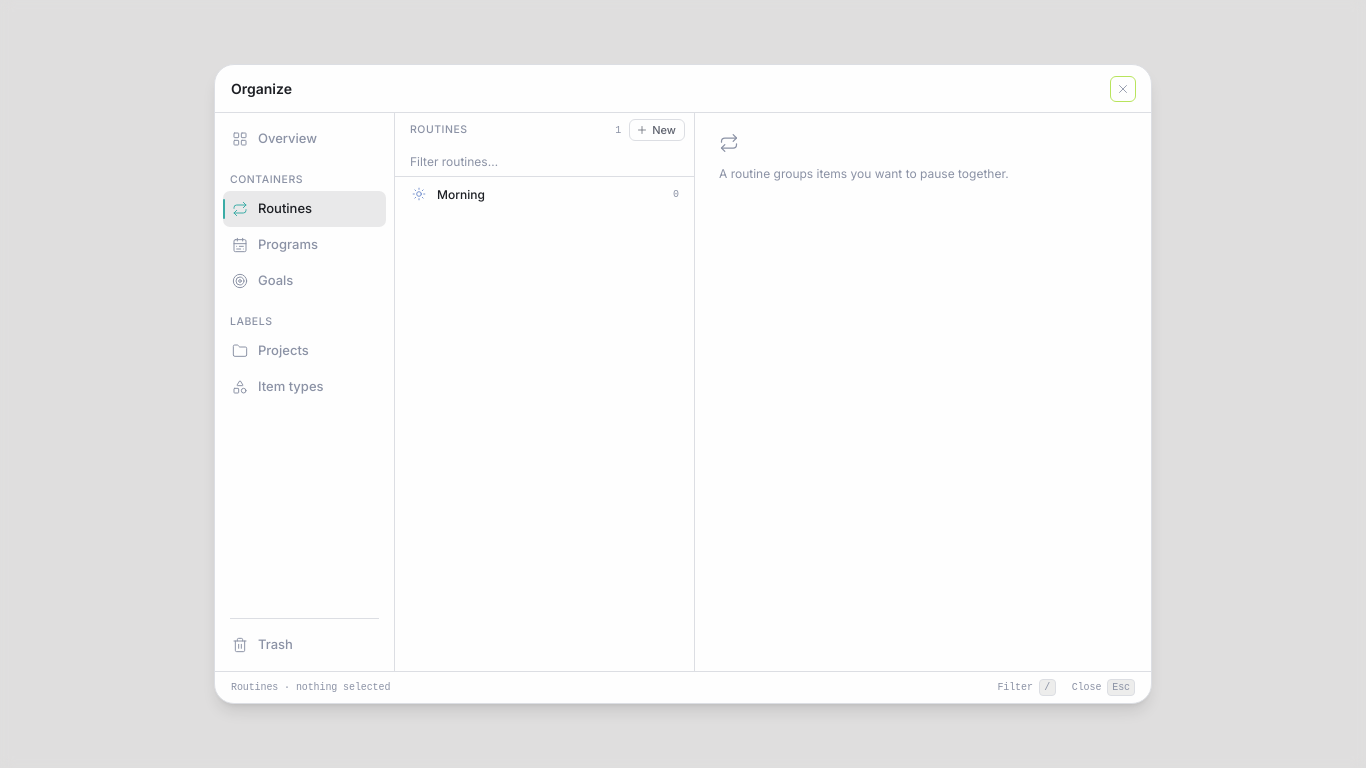
Scenario: the routines section › offers the resume date only while paused
The image size is (1366, 768).
Click the button with test id "routine-row".
click(461, 194)  # box [403, 177, 686, 211]
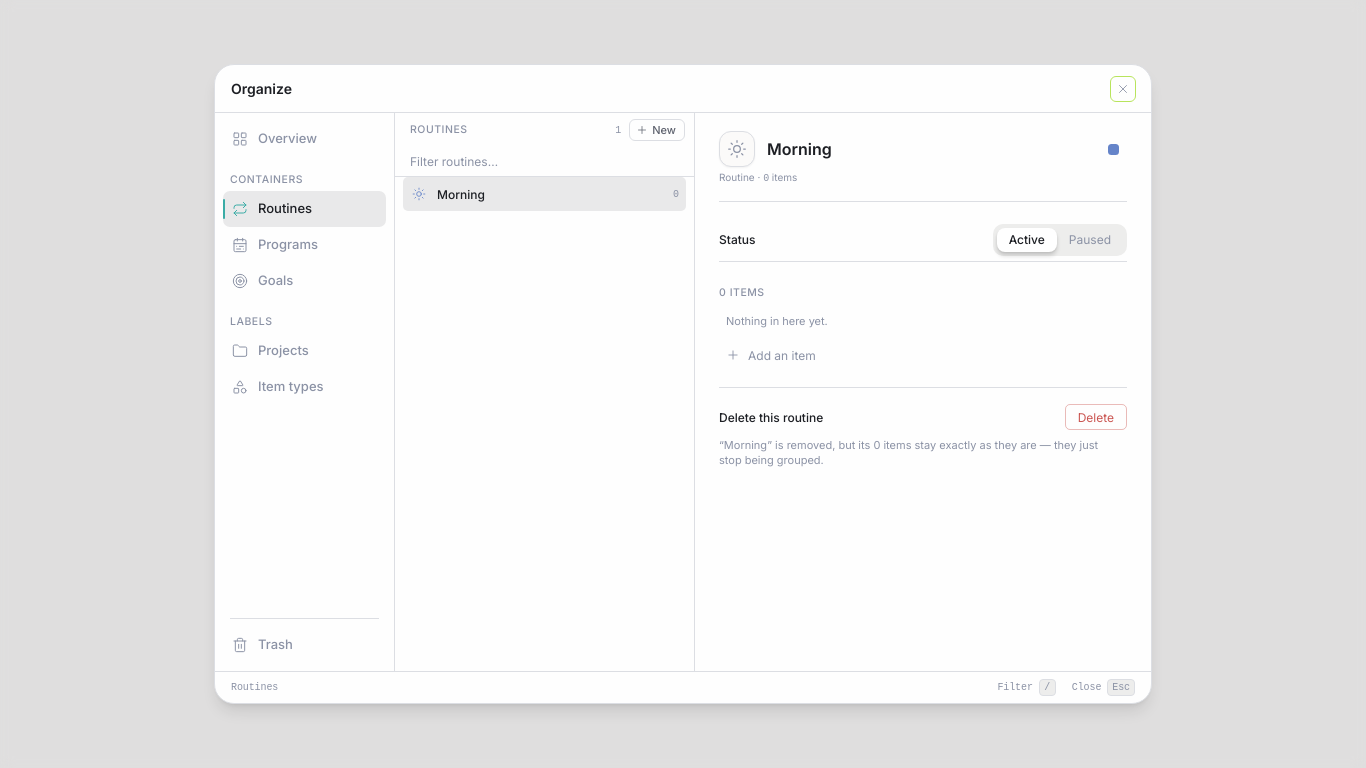
Click the button with test id "routine-state-paused".
click(1090, 240)  # box [1057, 228, 1123, 252]
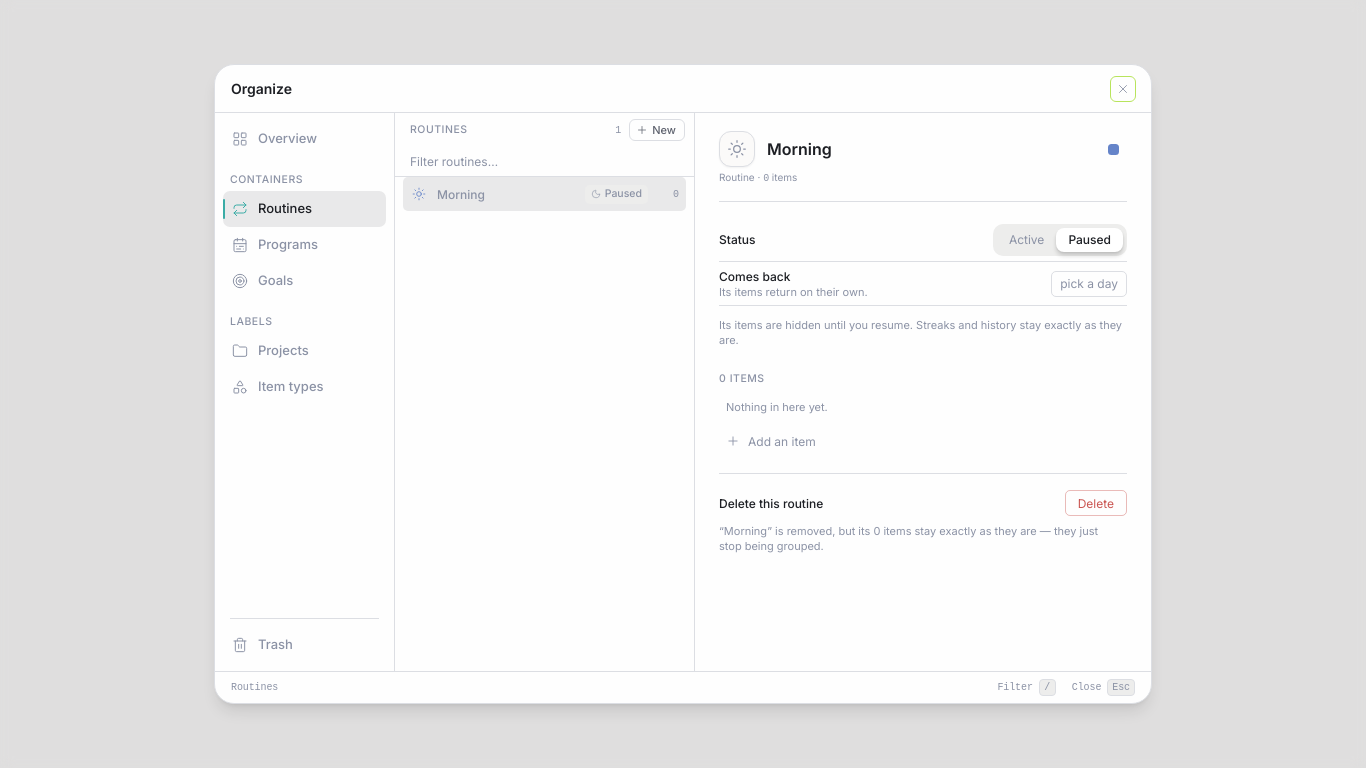
Check: the button with test id "routine-resume" is shown, box [1051, 270, 1127, 296]
